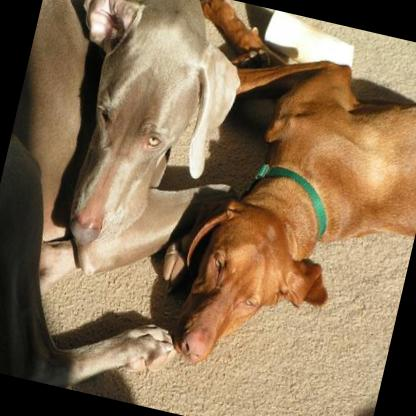vizsla: (115, 0, 416, 405)
